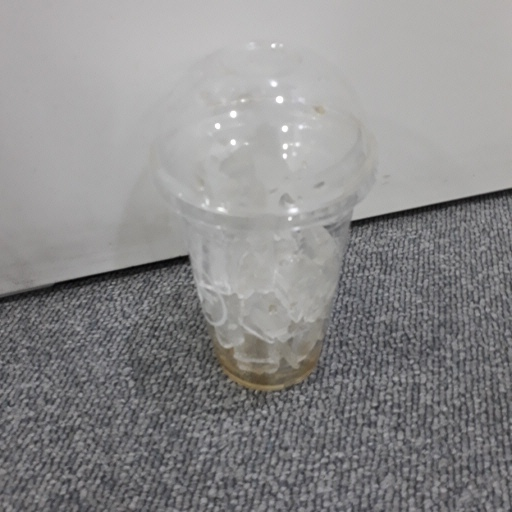Plastic_2: (152, 41, 378, 389)
